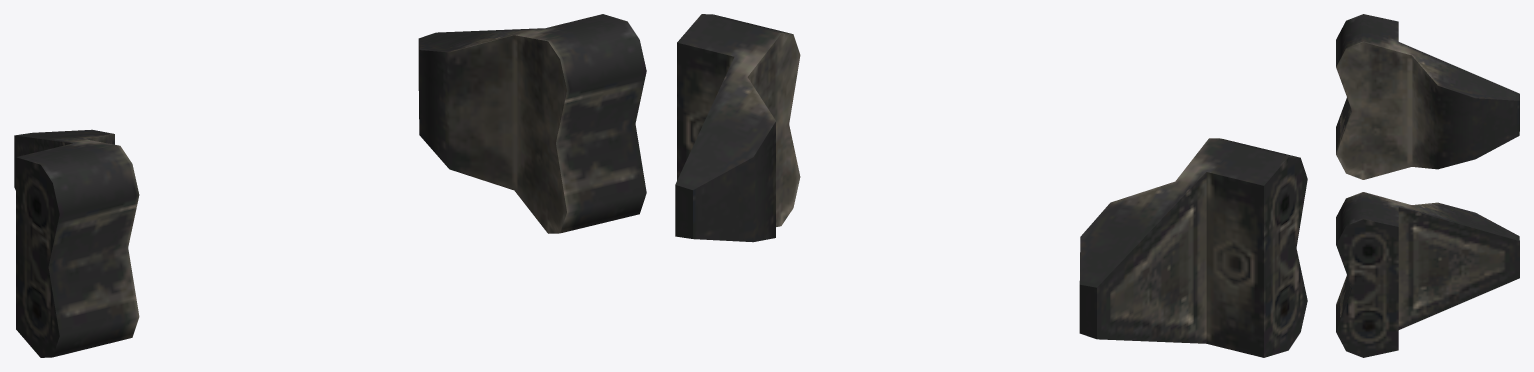
3 views of the same model, side by side, from view 1: azimuth 30°, elevation 25°; view 2: azimuth 150°, elevation 25°; view 3: azimuth 270°, elevation 25° (orthographic). The views are drawn at different scales.
Visible parts, largest first — view 1: set_0_group_0; view 2: set_0_group_0; view 3: set_0_group_0.
Part boxes in pixels (bbox=[...]): set_0_group_0: bbox=[14, 14, 646, 357]; set_0_group_0: bbox=[675, 14, 1307, 357]; set_0_group_0: bbox=[1336, 14, 1519, 357].
Bounding box in the file's own units: 0.42 × 0.1322 × 0.1589.
Materials: 1 (1 with a texture image).
